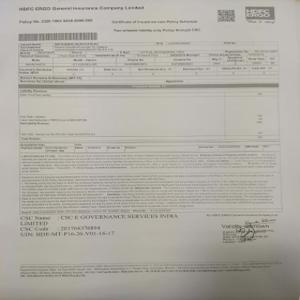image: (244, 5, 277, 28)
table: (16, 82, 282, 151), (16, 39, 279, 82)
text: (19, 154, 283, 212), (19, 212, 178, 237), (110, 18, 201, 32), (15, 4, 146, 12), (17, 15, 96, 24)
